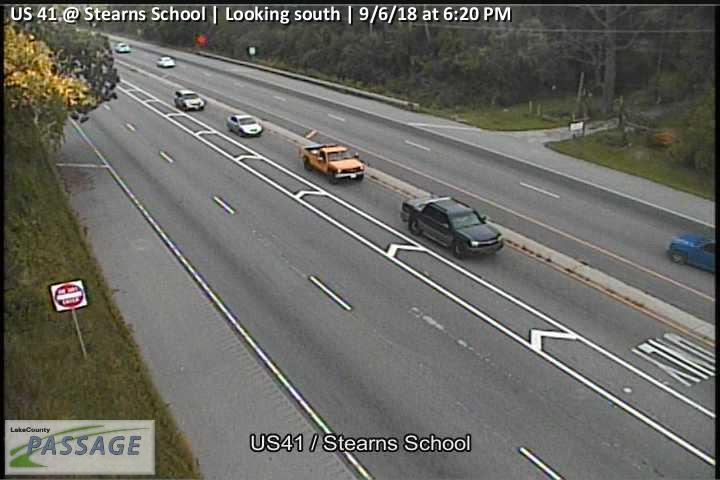SUV: (173, 88, 207, 112)
Sedan: (666, 230, 716, 270), (156, 54, 175, 69), (114, 42, 132, 53)
Truck: (400, 194, 505, 259), (297, 142, 366, 183), (226, 113, 265, 138)
